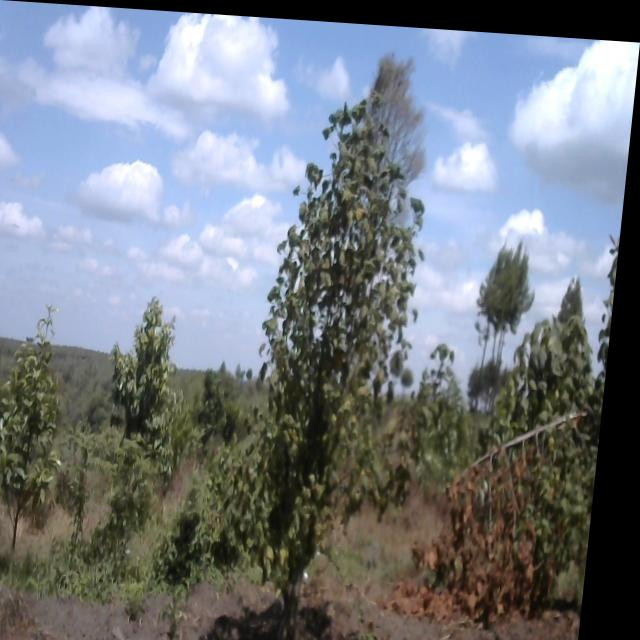Hass Avocado: (4, 310, 85, 557)
cedrus: (473, 225, 548, 327)
other: (239, 93, 426, 640)
